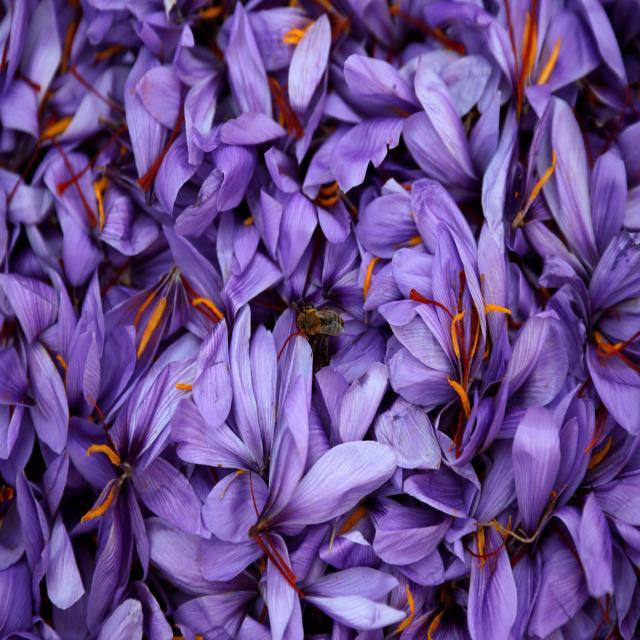Flower: (1, 2, 640, 640)
stigma: (509, 6, 553, 121), (254, 534, 296, 592)
